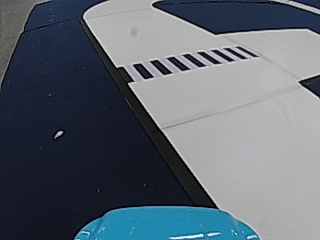CrossWalk: (122, 46, 254, 80)
